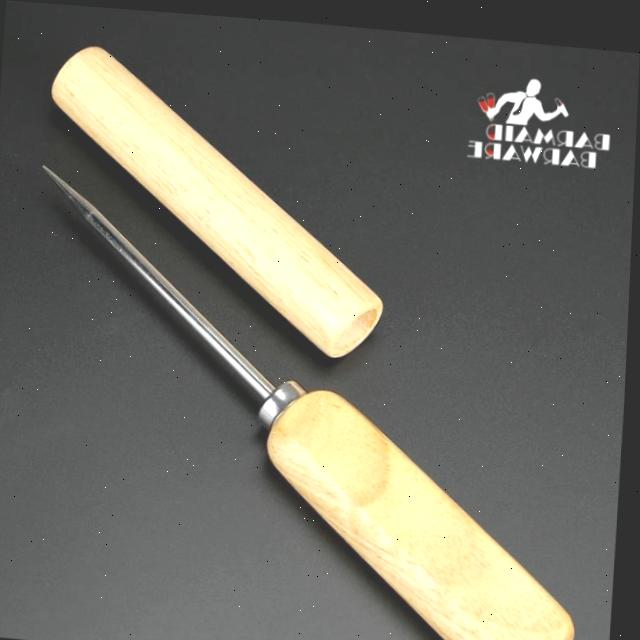ice pick: (19, 159, 605, 640), (35, 36, 399, 357)
